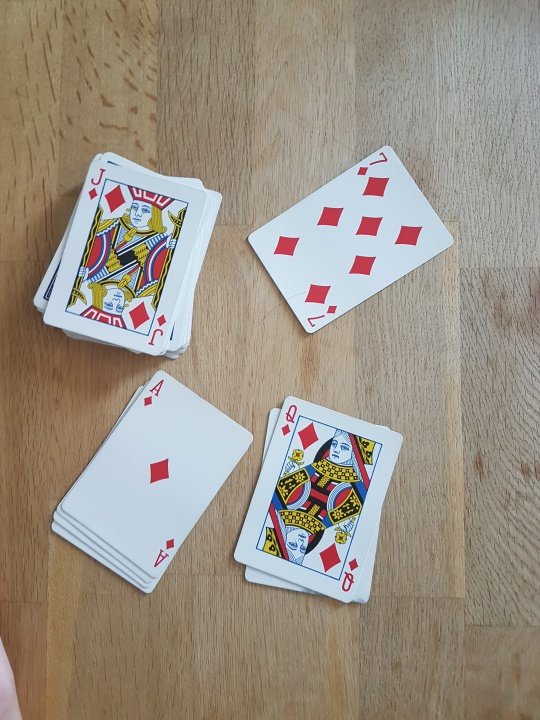7: (237, 141, 463, 351)
ace: (36, 365, 257, 584)
jack: (43, 142, 209, 359)
queen: (235, 380, 408, 609)
